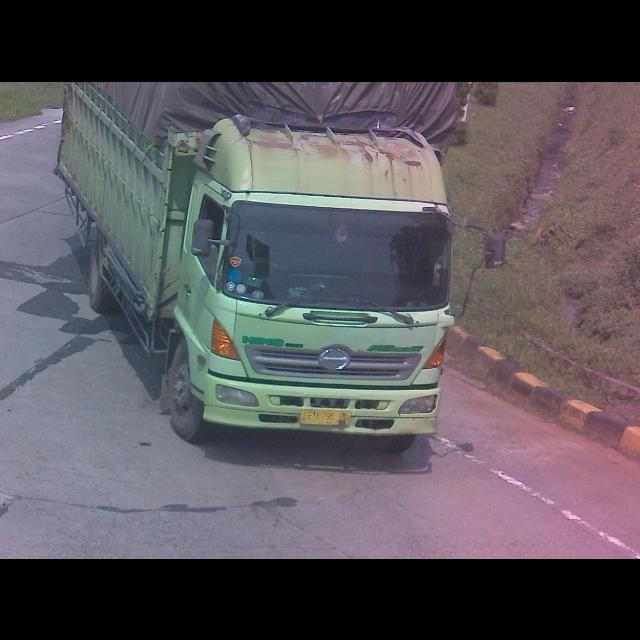plate: (300, 406, 352, 426)
